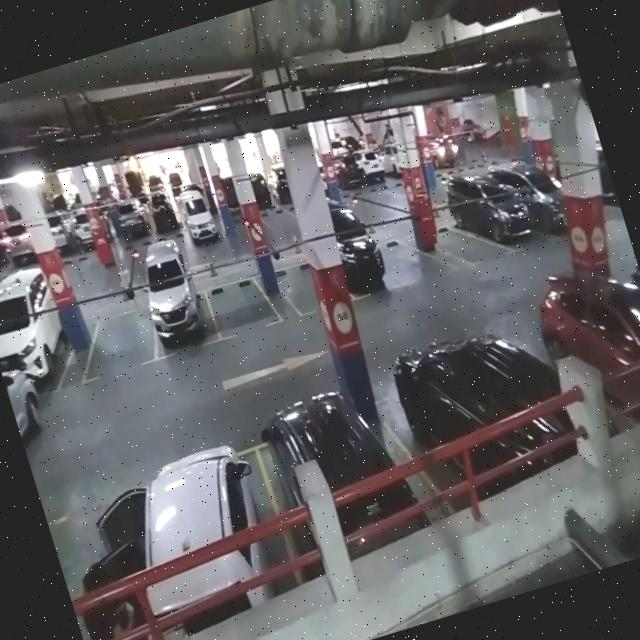empty: (66, 304, 163, 386), (202, 266, 282, 342), (272, 258, 324, 322)
occupied: (111, 442, 302, 632), (253, 394, 431, 586), (0, 277, 80, 403), (132, 261, 222, 363)
